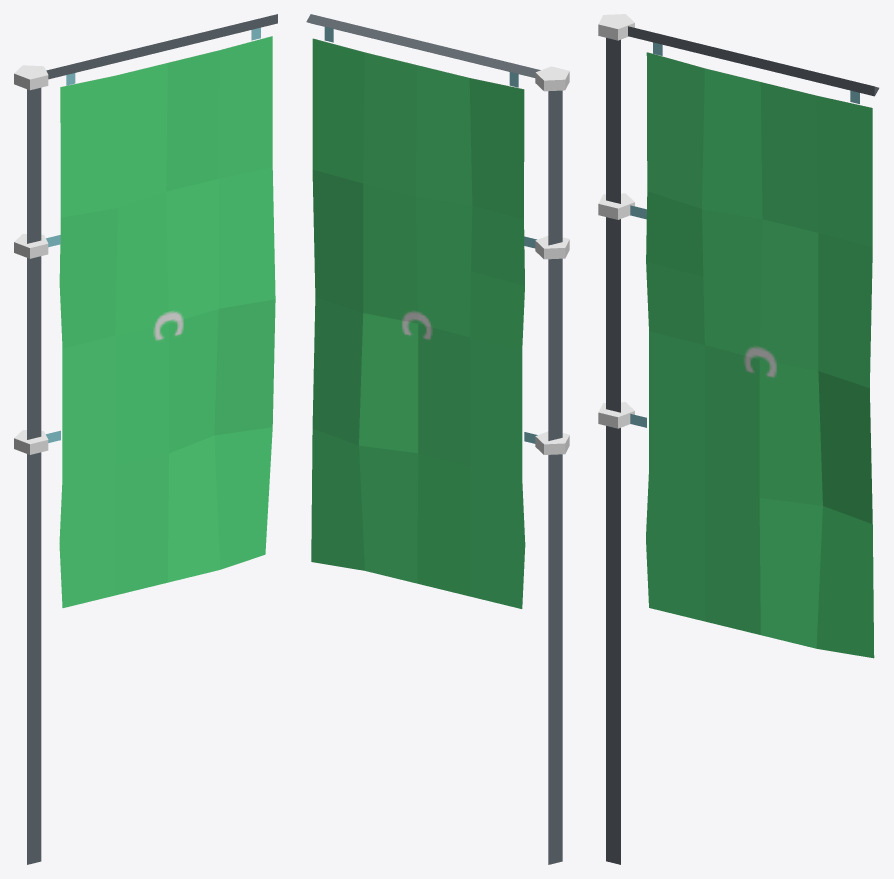
The model's file is hatac.fbx.
3 renders of one model, left to right at view 1: azimuth 30°, elevation 25°; view 2: azimuth 150°, elevation 25°; view 3: azimuth 330°, elevation 25°, orthographic. The views are drawn at different scales.
Visible parts, largest first — view 1: 平面, 円柱, 円柱.004, 円柱.003, 円柱.001, 円柱.002; view 2: 平面, 円柱, 円柱.004, 円柱.003, 円柱.001, 円柱.002; view 3: 平面, 円柱, 円柱.004, 円柱.003, 円柱.002, 円柱.001.
Part boxes in pixels (left/top/right/bottom): 平面: left=59, top=36, right=275, bottom=607; 円柱: left=27, top=87, right=41, bottom=864; 円柱.004: left=46, top=14, right=277, bottom=79; 円柱.003: left=14, top=65, right=48, bottom=90; 円柱.001: left=14, top=430, right=48, bottom=454; 円柱.002: left=14, top=234, right=48, bottom=258; 平面: left=311, top=38, right=525, bottom=608; 円柱: left=548, top=90, right=562, bottom=864; 円柱.004: left=306, top=14, right=540, bottom=77; 円柱.003: left=535, top=66, right=569, bottom=91; 円柱.001: left=535, top=431, right=569, bottom=454; 円柱.002: left=535, top=236, right=569, bottom=259; 平面: left=646, top=52, right=874, bottom=658; 円柱: left=606, top=38, right=620, bottom=864; 円柱.004: left=628, top=26, right=879, bottom=96; 円柱.003: left=598, top=14, right=634, bottom=40; 円柱.002: left=598, top=193, right=634, bottom=219; 円柱.001: left=598, top=402, right=634, bottom=428.
Size of the model in its own units: 56.98 by 166 by 6.26.
